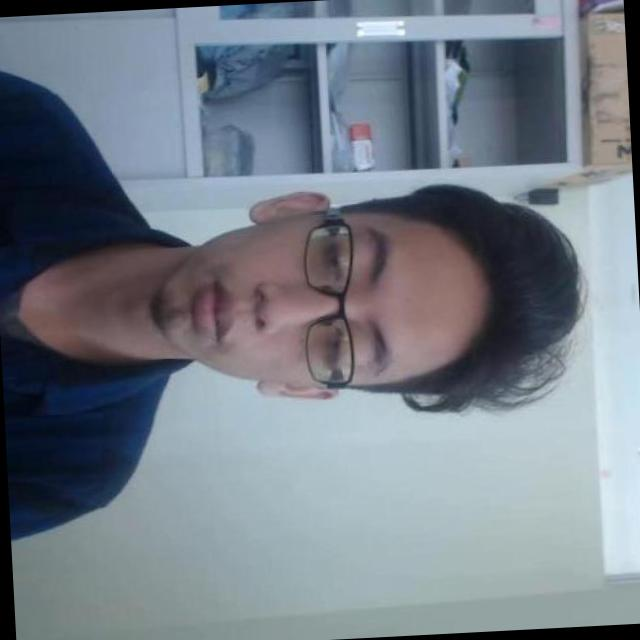bareface: (130, 147, 546, 457)
